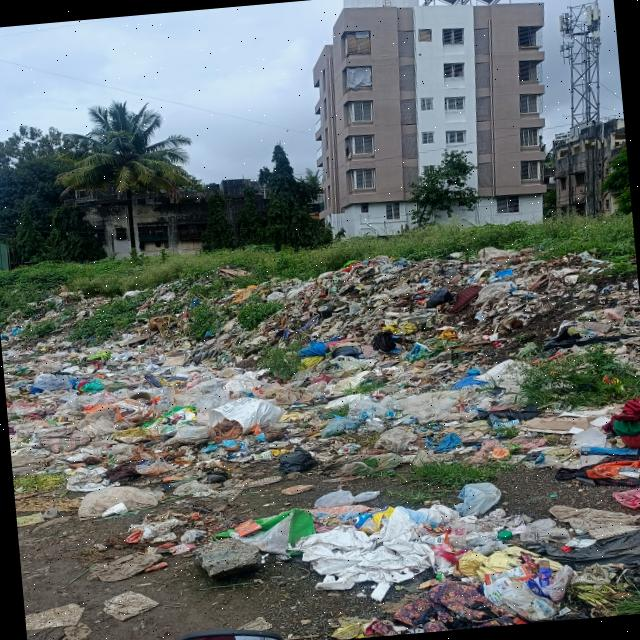garbage: (0, 241, 640, 502), (115, 465, 640, 640)
